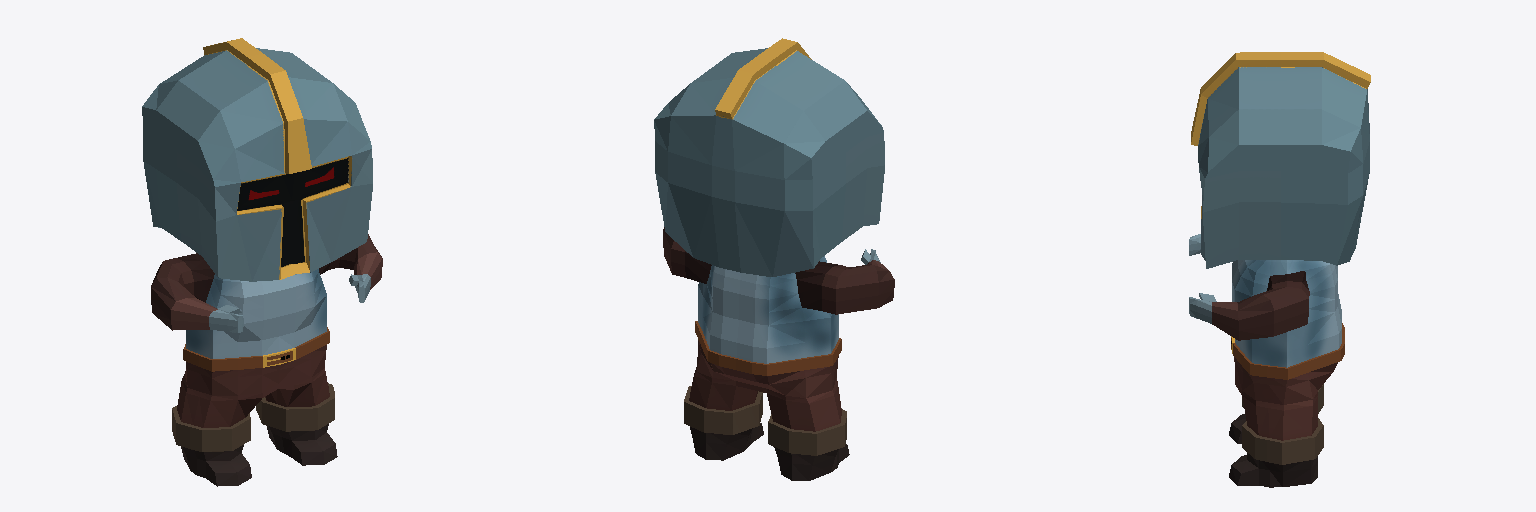
The picture shows the model from 3 angles: view 1: azimuth 30°, elevation 25°; view 2: azimuth 150°, elevation 25°; view 3: azimuth 270°, elevation 25°; orthographic projection.
Parts seen in each view (by area): view 1: Cube_Cube.001, Cylinder; view 2: Cube_Cube.001, Cylinder; view 3: Cube_Cube.001, Cylinder.
Part boxes in pixels (bbox=[...]): Cube_Cube.001: bbox=[142, 38, 372, 281]; Cylinder: bbox=[151, 234, 382, 486]; Cube_Cube.001: bbox=[654, 38, 884, 276]; Cylinder: bbox=[663, 227, 894, 480]; Cube_Cube.001: bbox=[1191, 52, 1370, 268]; Cylinder: bbox=[1189, 234, 1344, 487].
Bounding box in the file's own units: 1.54 × 2.73 × 1.12.
Materials: 2 (2 with a texture image).